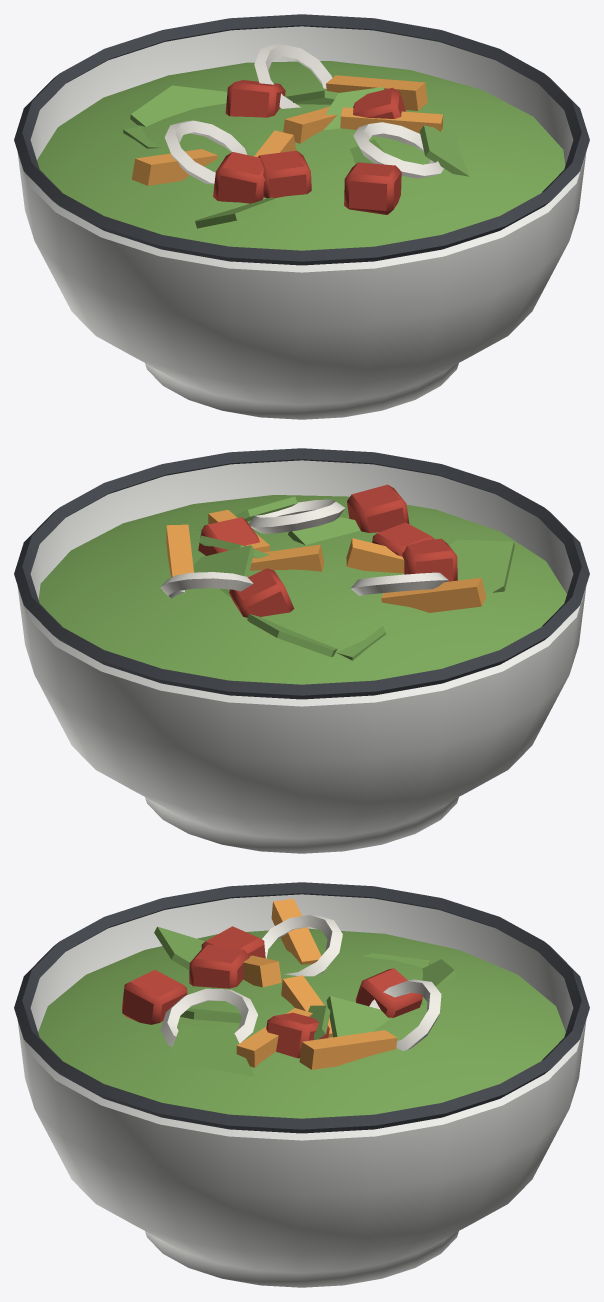
File: cook_salad.glb
3 renders of one model, top to bottom at view 1: azimuth 30°, elevation 25°; view 2: azimuth 150°, elevation 25°; view 3: azimuth 270°, elevation 25°, orthographic.
Visible parts, largest first — view 1: body; view 2: body; view 3: body.
Boxes of the visible parts, box(x1,y1,x2,y2) form: body: box(14, 14, 589, 419); body: box(14, 448, 589, 853); body: box(14, 882, 589, 1287).
Bounding box in the file's own units: 0.0628 × 0.0302 × 0.0628.
